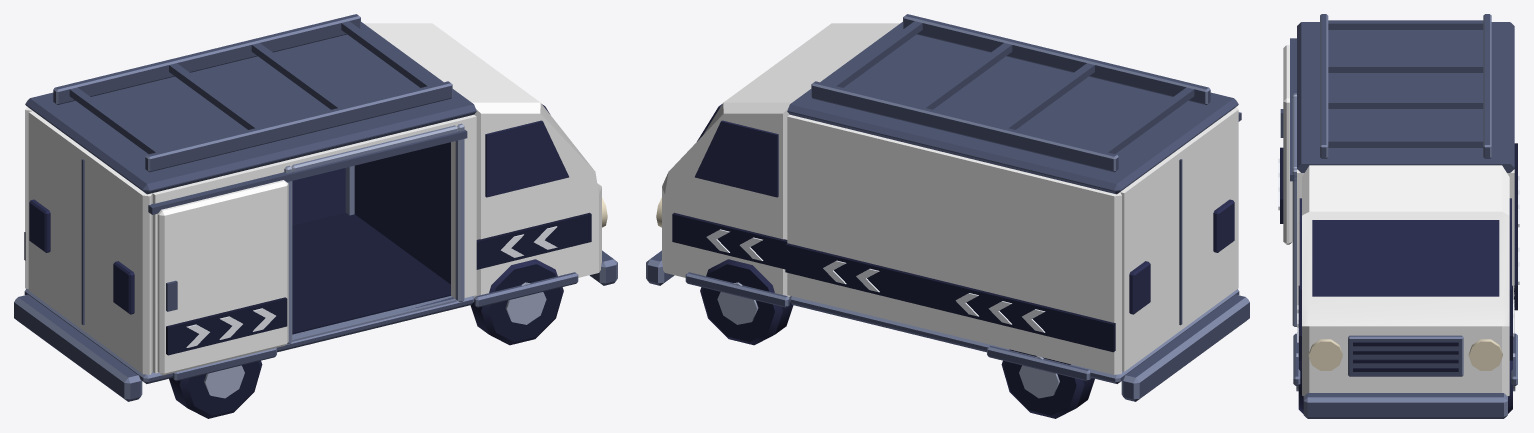
File: Van.fbx
3 renders of one model, left to right at view 1: azimuth 30°, elevation 25°; view 2: azimuth 150°, elevation 25°; view 3: azimuth 270°, elevation 25°, orthographic. The views are drawn at different scales.
Parts seen in each view (by area): view 1: Van, Van_Paint; view 2: Van_Paint, Van; view 3: Van, Van_Paint.
Boxes of the visible parts, x1,y1,x2,y2 form: Van: (14,14,617,418); Van_Paint: (25,23,601,375); Van_Paint: (662,23,1238,374); Van: (646,14,1249,418); Van: (1278,14,1519,418); Van_Paint: (1283,45,1514,396).
Size of the model in its own units: 14.9 by 7.69 by 7.08.
Materials: 1 (1 with a texture image).
